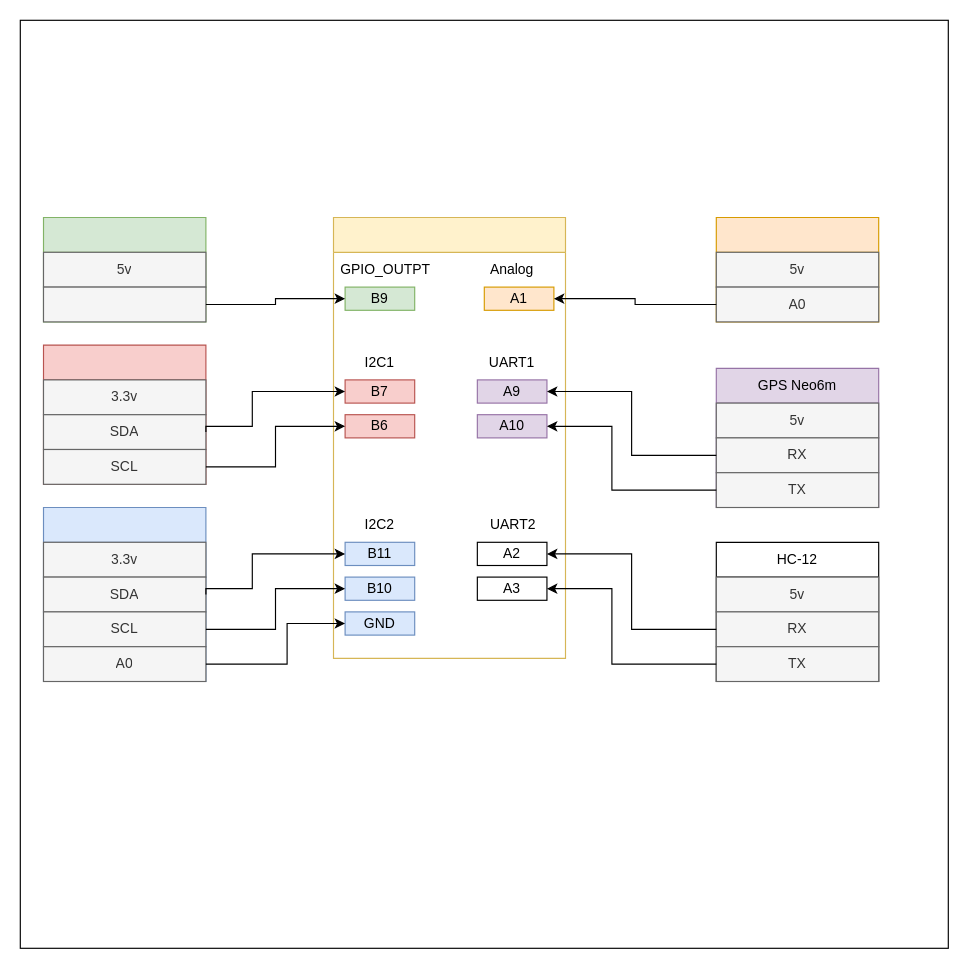
Image size: 969x969. Some labels were removed from this diagram. Each missing label, with the box of its shape:
BMP (180 or 280): (42, 344, 206, 484)
Data: (42, 286, 206, 322)
DHT 22: (42, 216, 206, 322)
MPU 6050: (42, 506, 206, 682)
MQ 135: (715, 216, 879, 322)
STM32 Blue Pill_1: (332, 216, 566, 658)
